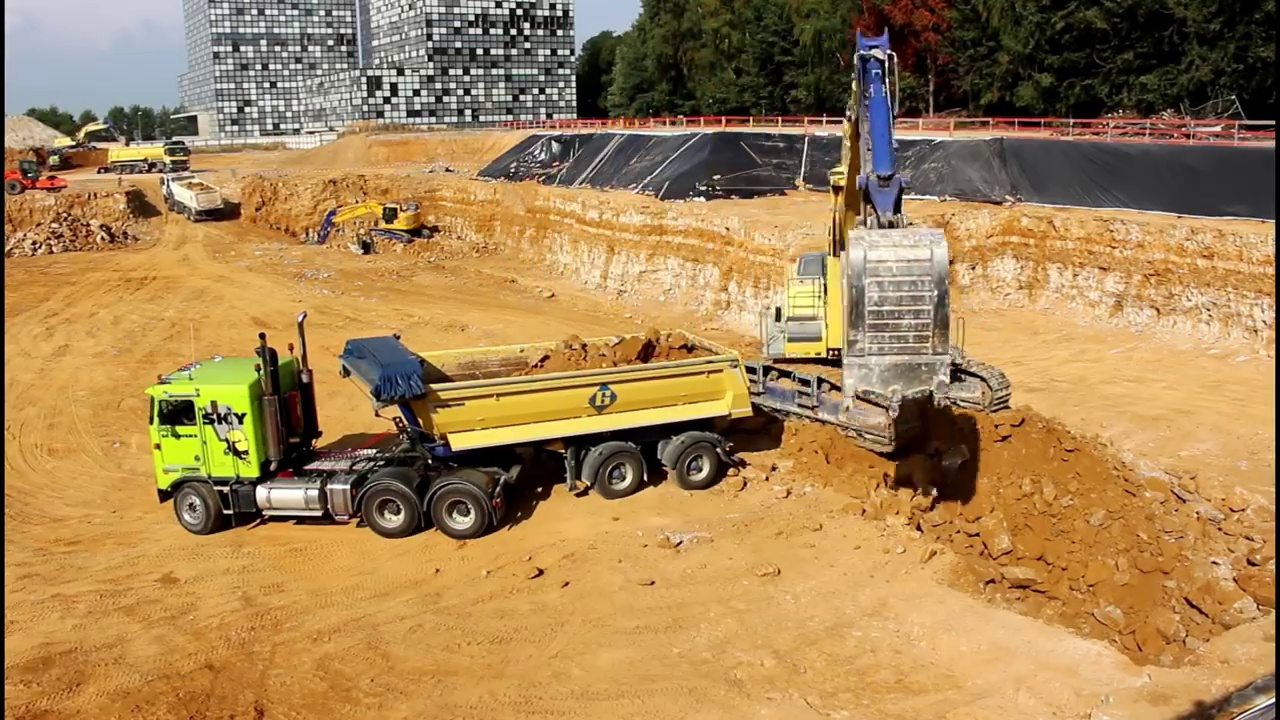compactor: (6, 157, 70, 200)
excavator: (726, 19, 1022, 465), (305, 188, 443, 262), (45, 114, 121, 161)
truck: (139, 305, 759, 544), (157, 168, 232, 221), (108, 138, 197, 178)
